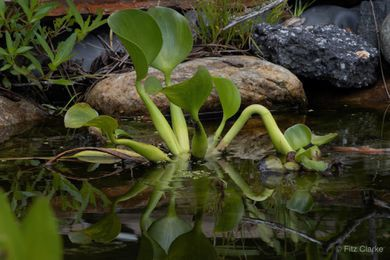water_hyacinth: (57, 5, 332, 177)
